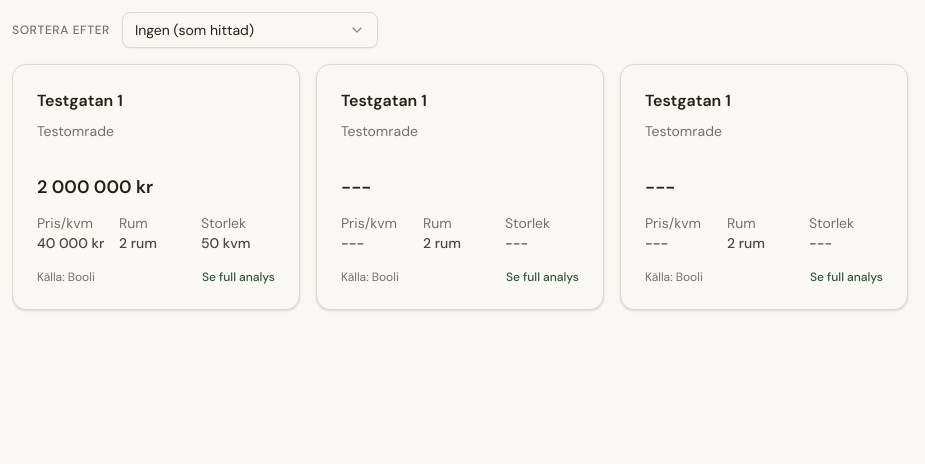
DiscoveryResults › WR-01 regression: surfaces a thin-baseline caption for renovation-upside when isDegenerate is false but the price/sqm baseline sample is too small
Click the dropdown at (250, 30), box [122,12,378,48]
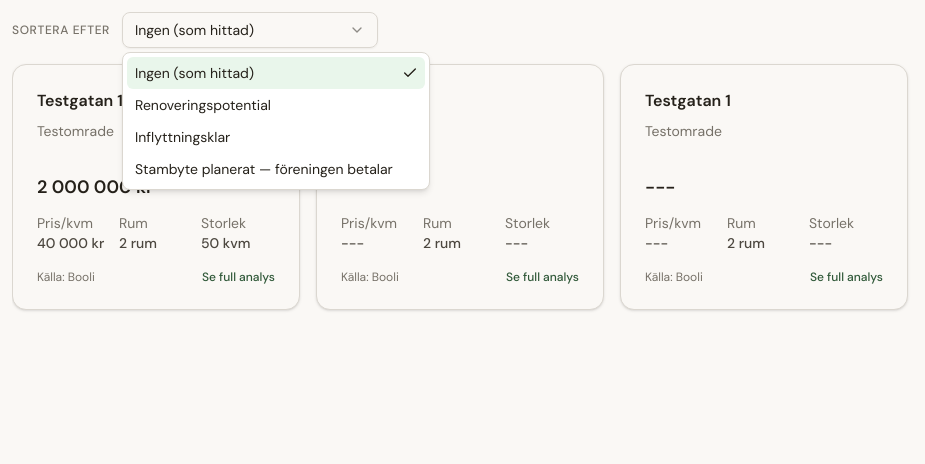
Click the option "Renoveringspotential" at (203, 105), box [135,96,271,114]
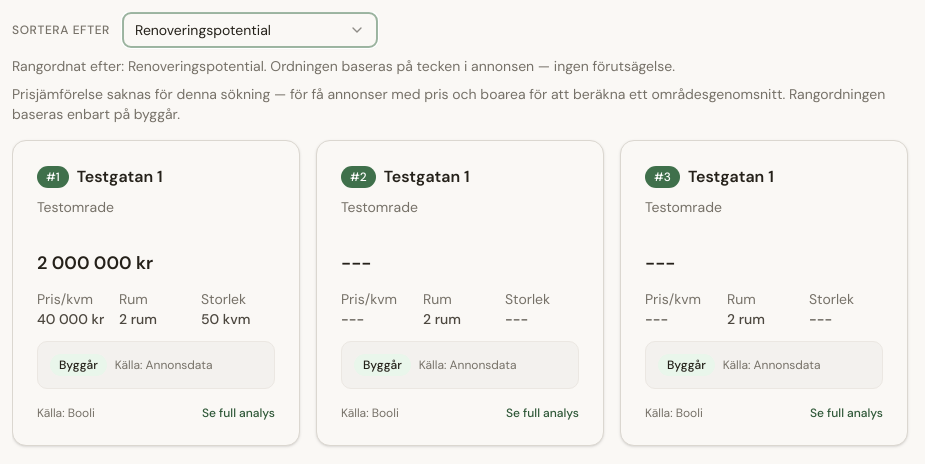
expect the text "Prisjämförelse saknas för denna sökning" is shown: met, box [12,85,885,123]
expect the text "#1" is shown: met, box [37,166,69,188]
